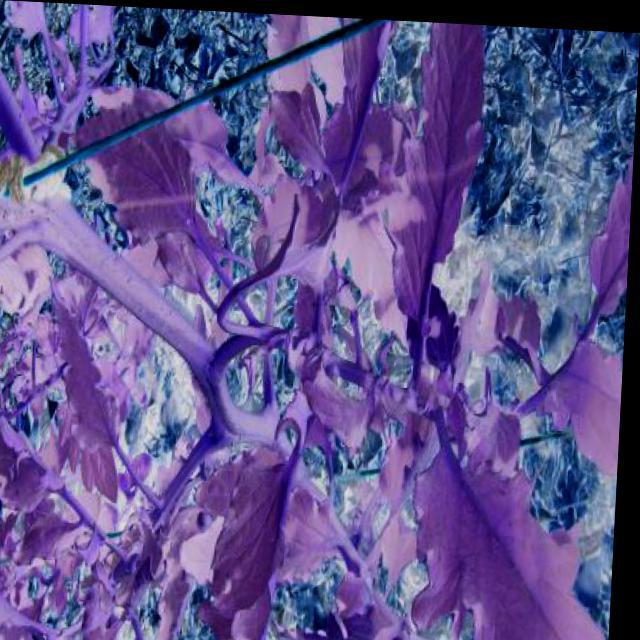Tomato bacterial spot leaf: (414, 401, 601, 639), (374, 16, 494, 324), (64, 101, 251, 294), (271, 11, 393, 229), (227, 432, 312, 616), (39, 288, 123, 446), (580, 148, 635, 327), (468, 278, 554, 376)
